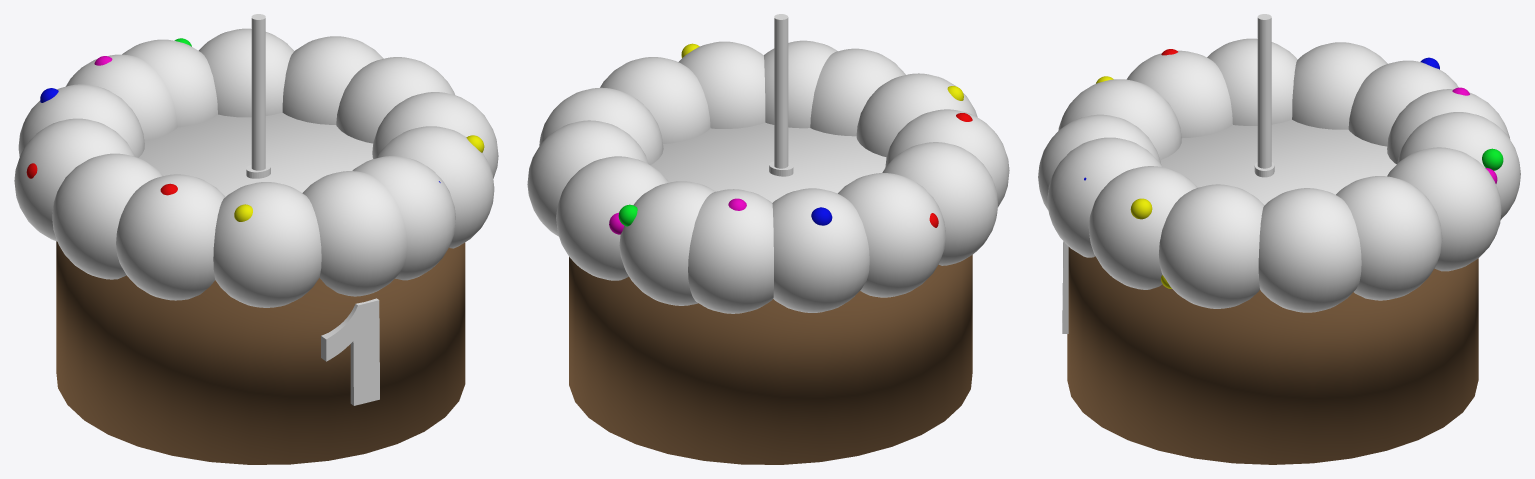
Rendered from 1 years hyper.fbx.
The picture shows the model from 3 angles, left to right: view 1: azimuth 30°, elevation 25°; view 2: azimuth 150°, elevation 25°; view 3: azimuth 270°, elevation 25°; orthographic projection.
Visible parts, largest first — view 1: Cylinder, Sphere.002, Sphere.004, Sphere, Sphere.006, Sphere.008, Sphere.027, Sphere.025, Sphere.005, Sphere.007, Sphere.003, Sphere.026 (+5 smaller); view 2: Cylinder, Sphere.024, Sphere.026, Sphere.008, Sphere.003, Sphere.001, Sphere.006, Sphere.005, Sphere.023, Sphere.025, Sphere, Sphere.002 (+4 smaller); view 3: Cylinder, Sphere.007, Sphere.023, Sphere.005, Sphere.025, Sphere.003, Sphere.027, Sphere.008, Sphere.004, Sphere.024, Sphere.006, Sphere.002 (+5 smaller).
Part boxes in pixels (left/top/right/bottom): Cylinder: left=56, top=112, right=465, bottom=464; Sphere.002: left=213, top=182, right=321, bottom=307; Sphere.004: left=116, top=174, right=225, bottom=300; Sphere: left=302, top=171, right=407, bottom=296; Sphere.006: left=52, top=153, right=162, bottom=279; Sphere.008: left=14, top=118, right=135, bottom=241; Sphere.027: left=352, top=156, right=455, bottom=280; Sphere.025: left=377, top=126, right=494, bottom=248; Sphere.005: left=282, top=36, right=383, bottom=124; Sphere.007: left=336, top=57, right=454, bottom=143; Sphere.003: left=198, top=28, right=294, bottom=117; Sphere.026: left=66, top=54, right=177, bottom=141; Cylinder: left=569, top=122, right=972, bottom=464; Sphere.024: left=772, top=188, right=869, bottom=312; Sphere.026: left=688, top=189, right=773, bottom=313; Sphere.008: left=838, top=173, right=945, bottom=297; Sphere.003: left=556, top=156, right=668, bottom=280; Sphere.001: left=619, top=181, right=715, bottom=305; Sphere.006: left=882, top=142, right=998, bottom=265; Sphere.005: left=527, top=120, right=648, bottom=236; Sphere.023: left=600, top=57, right=710, bottom=143; Sphere.025: left=678, top=41, right=765, bottom=128; Sphere: left=810, top=48, right=905, bottom=136; Sphere.002: left=856, top=73, right=977, bottom=157; Cylinder: left=1067, top=120, right=1478, bottom=464; Sphere.007: left=1258, top=188, right=1361, bottom=312; Sphere.023: left=1159, top=184, right=1264, bottom=308; Sphere.005: left=1336, top=176, right=1442, bottom=300; Sphere.025: left=1088, top=166, right=1197, bottom=289; Sphere.003: left=1387, top=147, right=1501, bottom=271; Sphere.027: left=1047, top=137, right=1162, bottom=257; Sphere.008: left=1292, top=42, right=1387, bottom=129; Sphere.004: left=1126, top=50, right=1232, bottom=138; Sphere.024: left=1348, top=60, right=1458, bottom=146; Sphere.006: left=1207, top=38, right=1297, bottom=125; Sphere.002: left=1058, top=79, right=1181, bottom=159.
Size of the model in its own units: 233 by 193 by 235.
